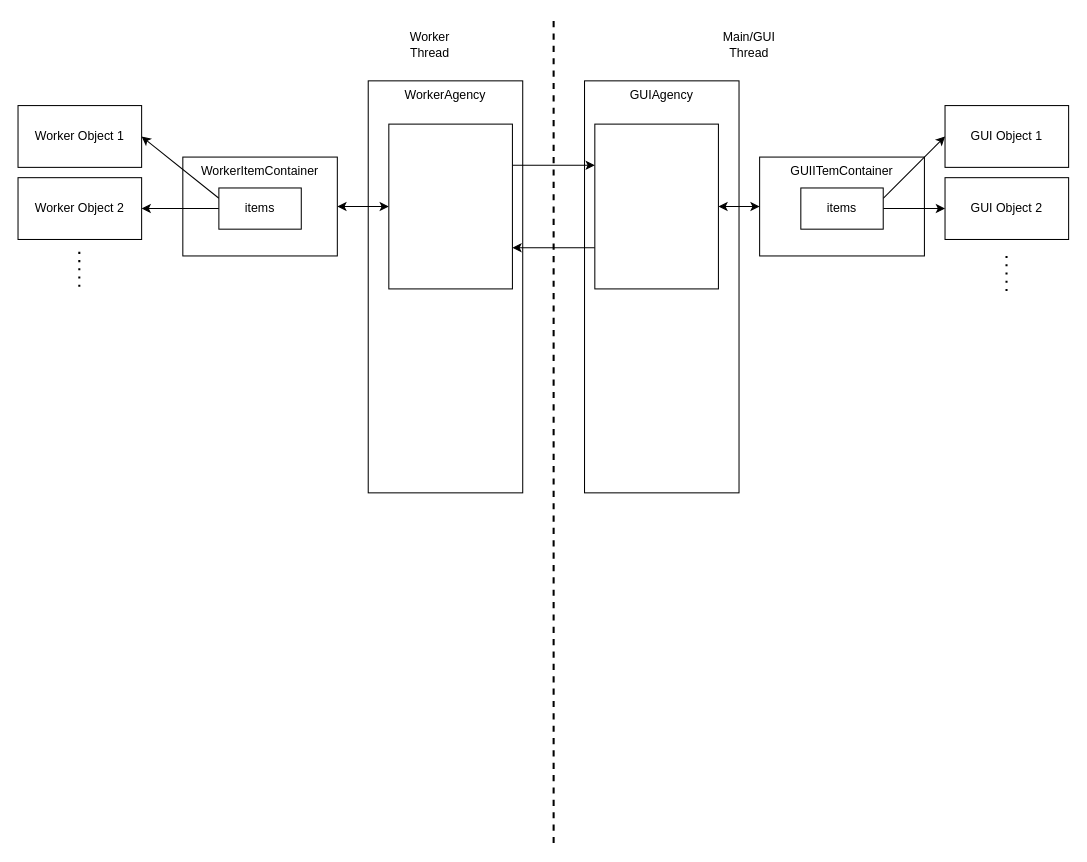
The diagram is 1087 pixels wide and 862 high, and some of its shapes have lost their labels. Each missing label, with the centre of its shape:
"GUIAgent" goes at [656,206].
"WorkerAgent" goes at [450,206].
